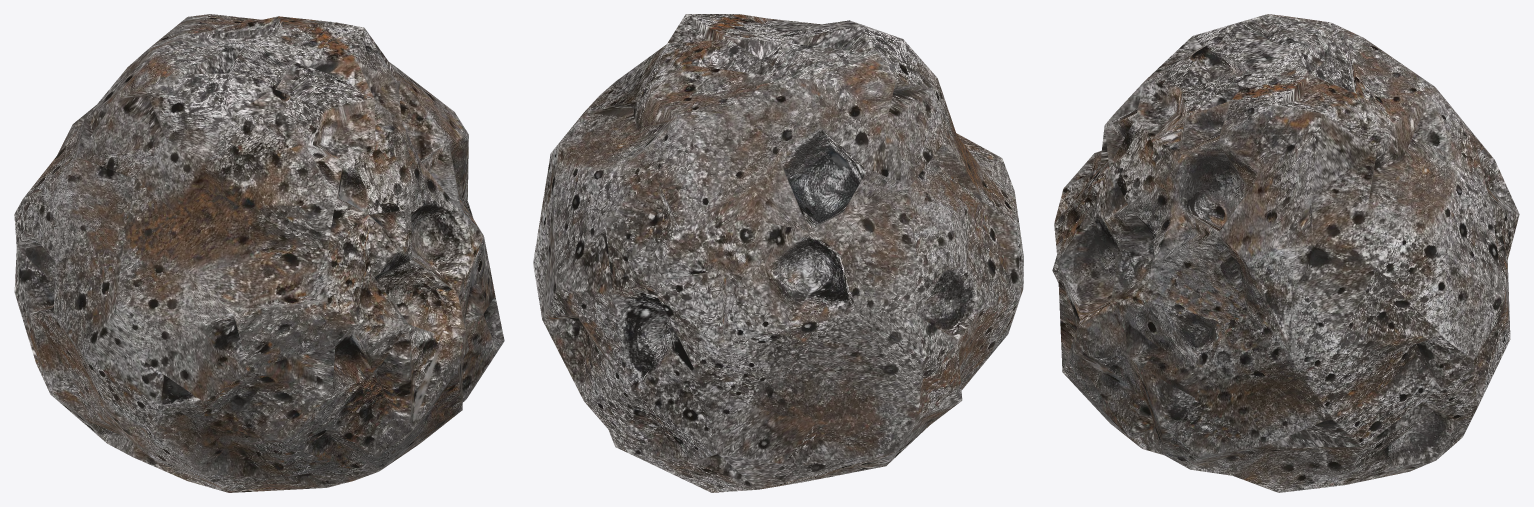
File: asteroid_2.glb
3 views of the same model, side by side, from view 1: azimuth 30°, elevation 25°; view 2: azimuth 150°, elevation 25°; view 3: azimuth 270°, elevation 25° (orthographic). The views are drawn at different scales.
Bounding box in the file's own units: 1 × 0.9394 × 0.9961.
Materials: 1 (1 with a texture image).
